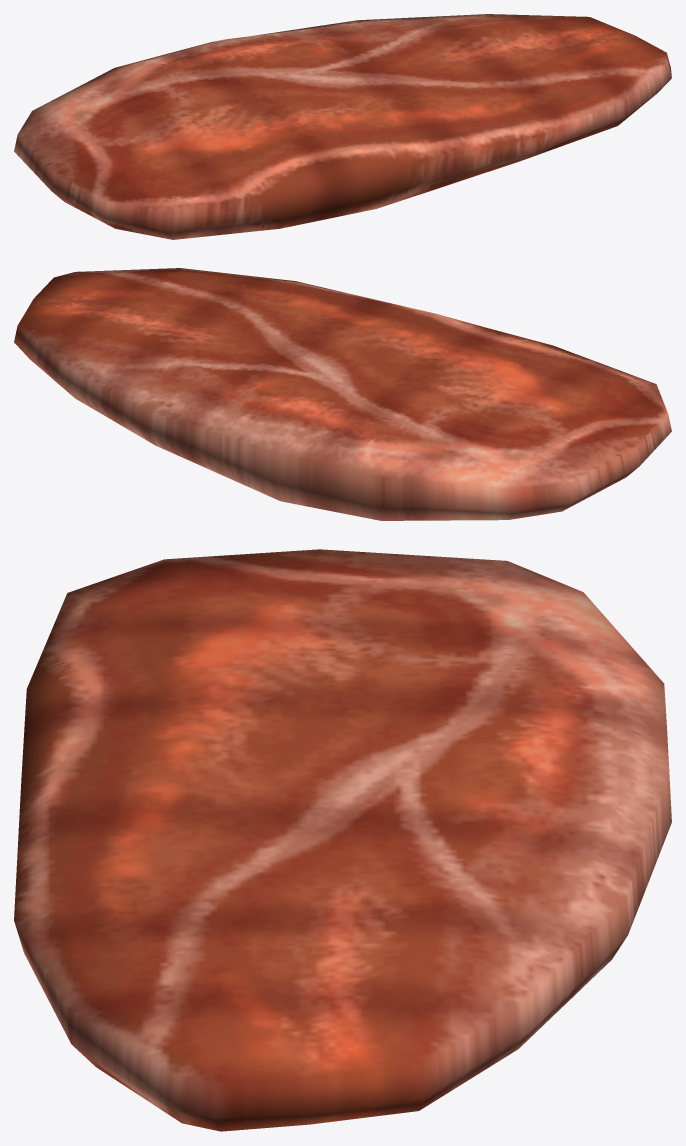
Rendered from LP_MeatSeared.glb.
3 renders of one model, top to bottom at view 1: azimuth 30°, elevation 25°; view 2: azimuth 150°, elevation 25°; view 3: azimuth 270°, elevation 25°, orthographic. The views are drawn at different scales.
Visible parts, largest first — view 1: MeatSeared; view 2: MeatSeared; view 3: MeatSeared.
Boxes of the visible parts, left/top/right/bottom form: MeatSeared: left=14, top=14, right=671, bottom=239; MeatSeared: left=14, top=268, right=671, bottom=520; MeatSeared: left=14, top=549, right=671, bottom=1131.
Size of the model in its own units: 0.537 by 0.064 by 0.2764.
Materials: 1 (1 with a texture image).
